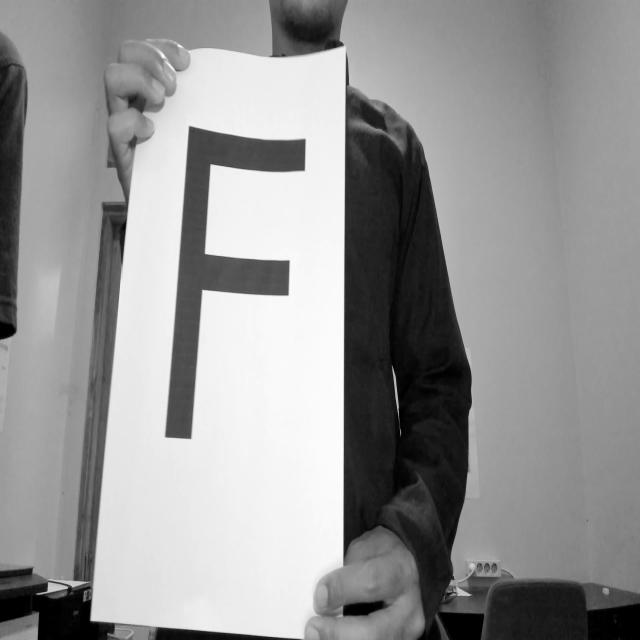f: (158, 112, 312, 464)
